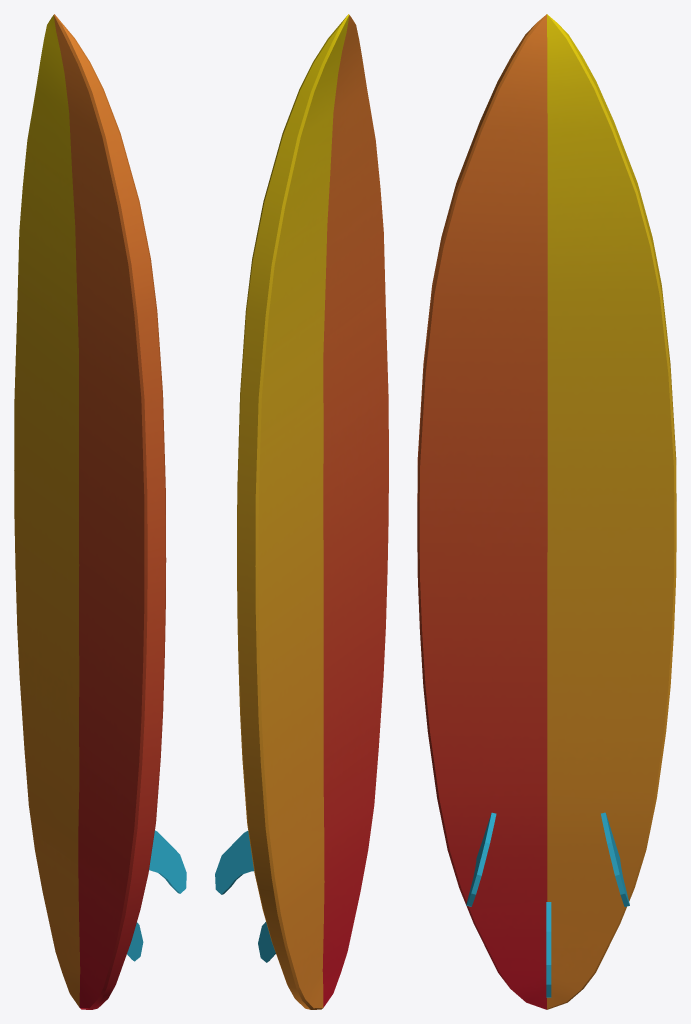
The model's file is ENV_Surfboard.fbx.
The picture shows the model from 3 angles, left to right: view 1: azimuth 30°, elevation 25°; view 2: azimuth 150°, elevation 25°; view 3: azimuth 270°, elevation 25°; orthographic projection. The views are drawn at different scales.
Visible parts, largest first — view 1: Surfboard:Board, Fins; view 2: Surfboard:Board, Fins; view 3: Surfboard:Board, Fins.
Part boxes in pixels (x1,y1,x2,y2): Surfboard:Board: (14,14,166,1009); Fins: (127,830,186,961); Surfboard:Board: (237,14,388,1009); Fins: (215,831,275,962); Surfboard:Board: (417,14,676,1009); Fins: (466,812,629,997).
Size of the model in its own units: 27.86 by 282 by 67.68.
